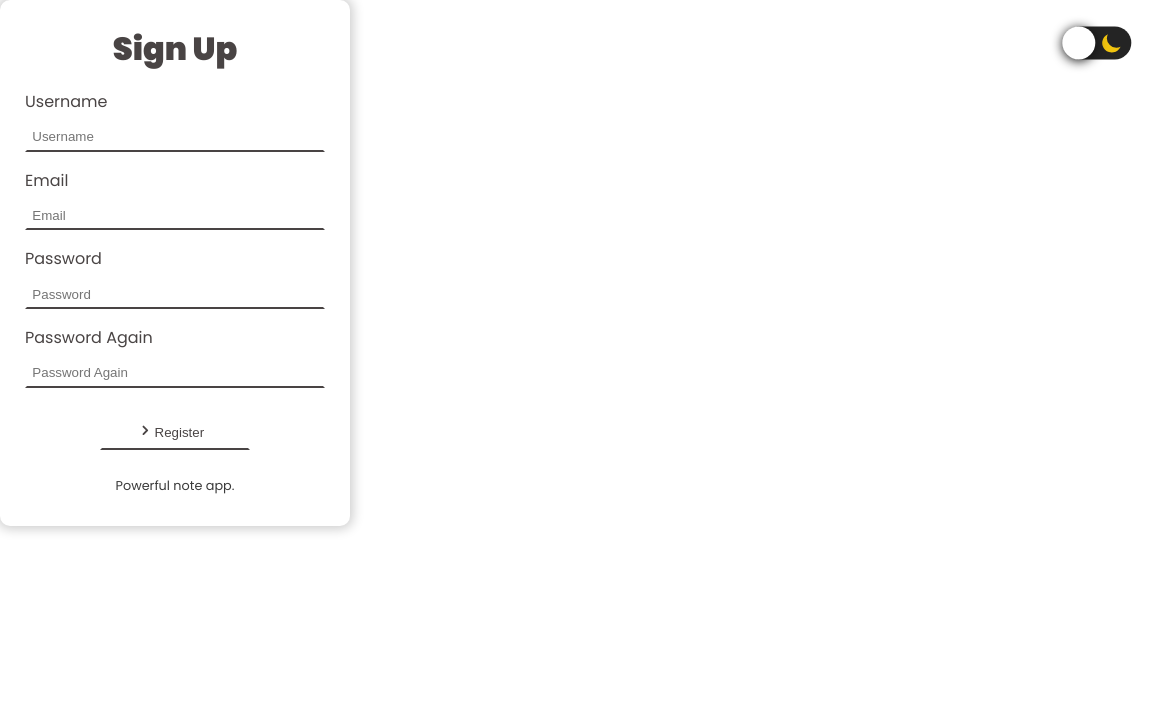
Scenario: SingUp Form › Email Valid Check › Validation Check for valid email adress
The width and height of the screenshot is (1152, 720).
In the field labelled "Email": (175, 216) [25, 201, 325, 230], type "aaaa"
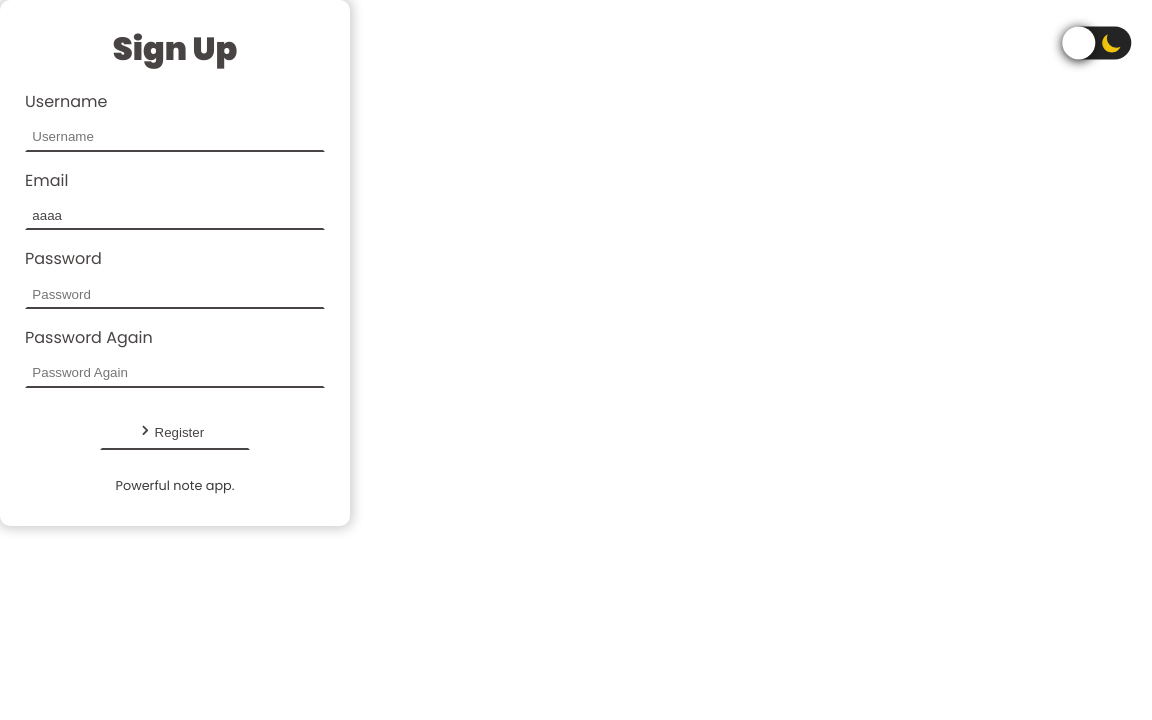
Submit the form from the button, box [100, 414, 250, 450]
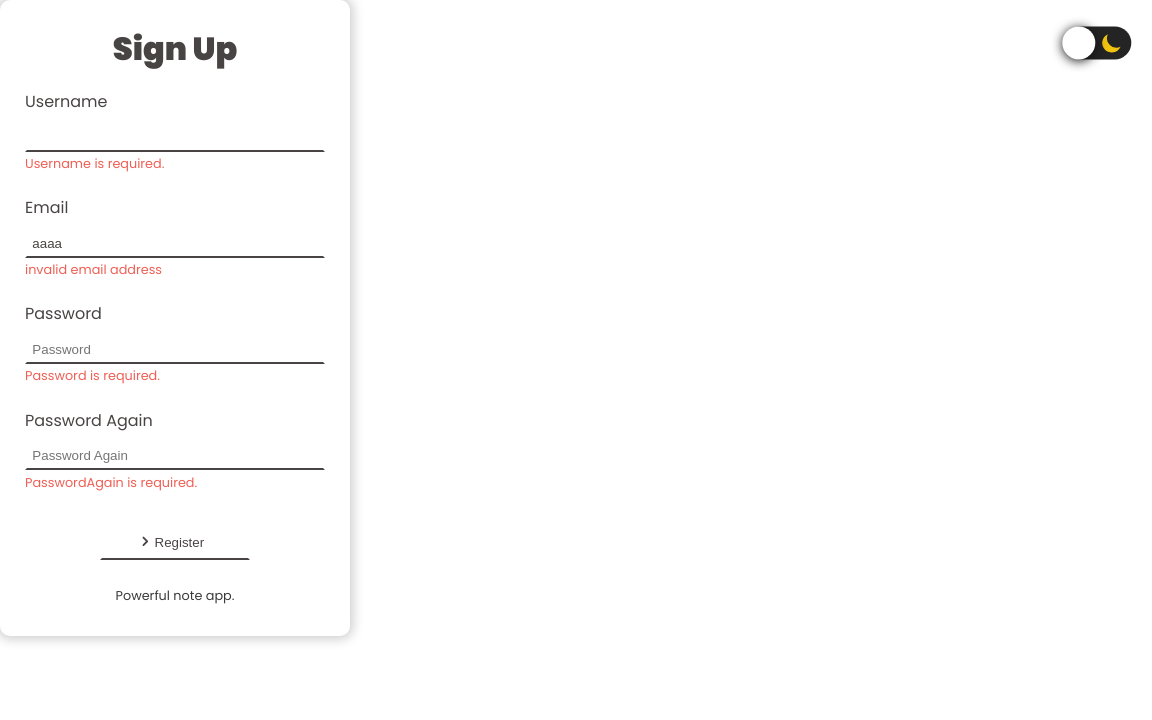
Expected: the text "invalid email address" is shown, [25, 261, 162, 278]
